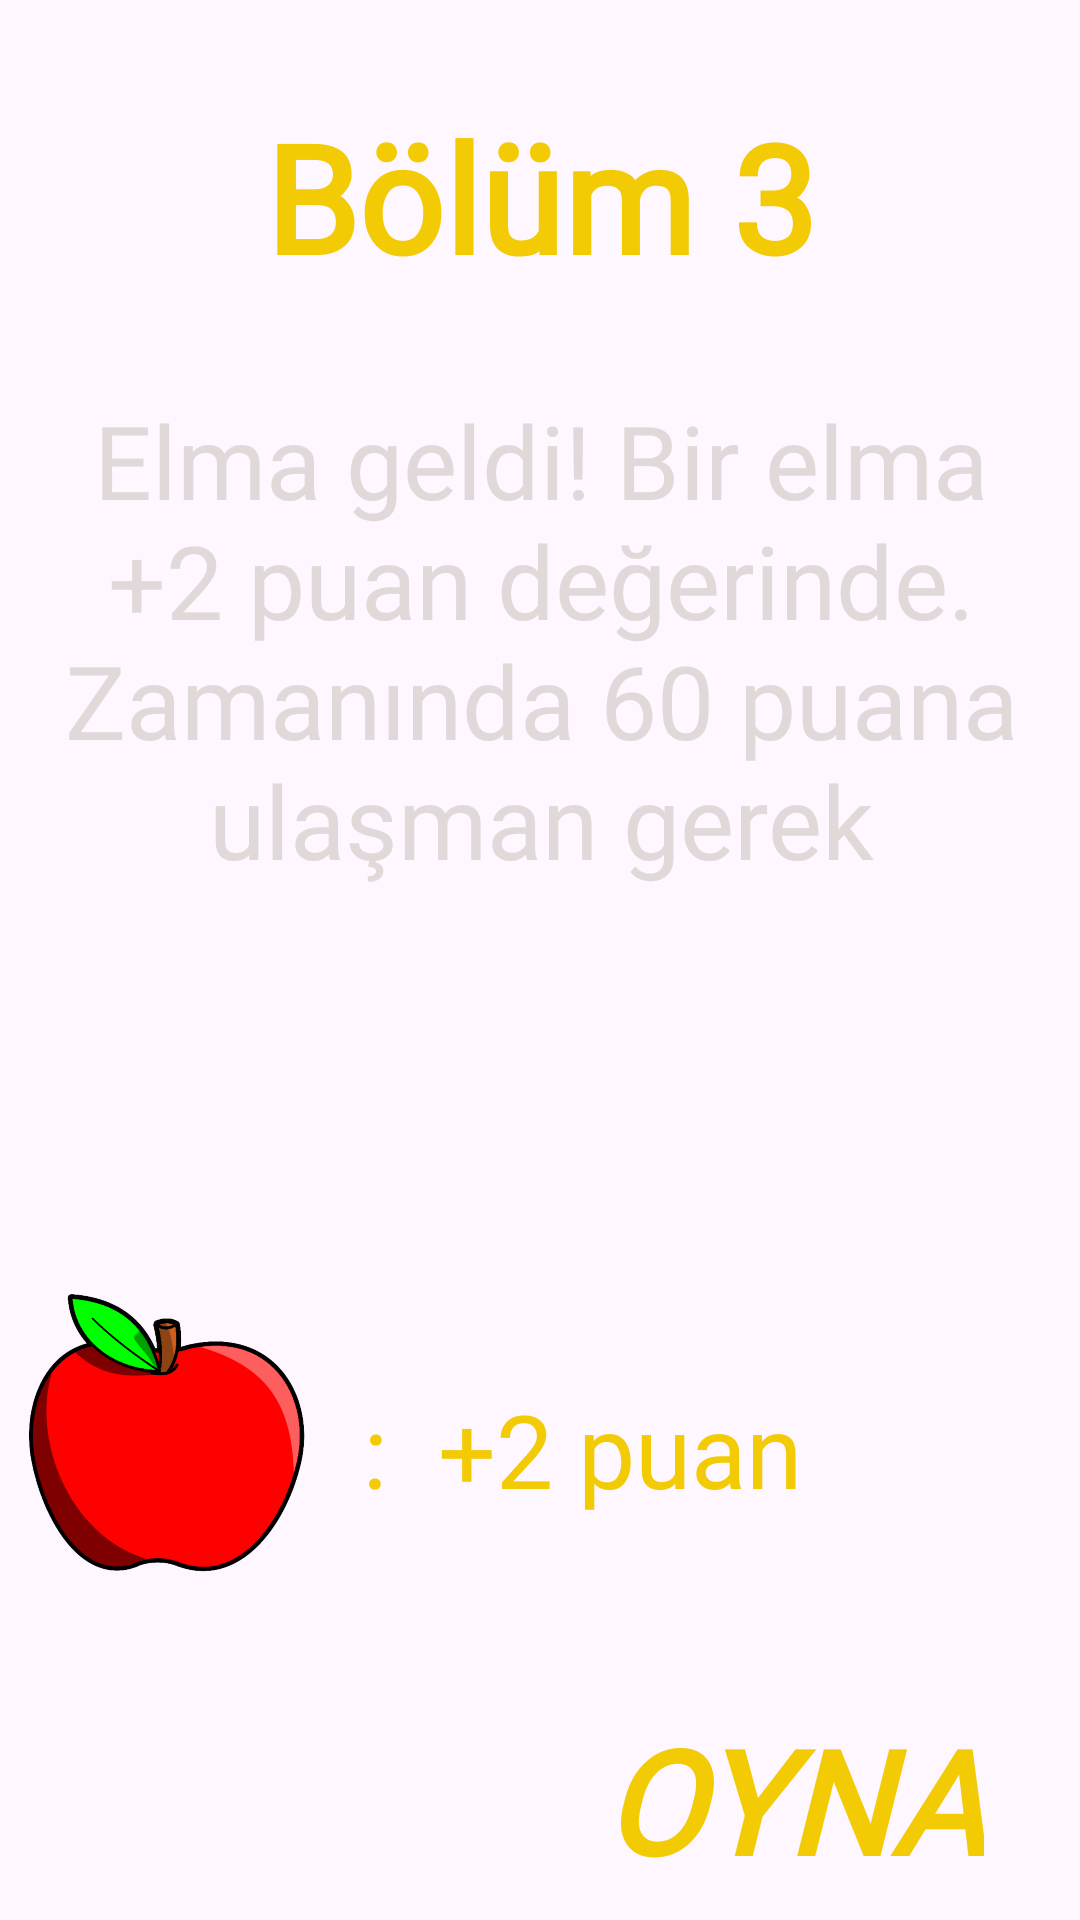

Icon click points for this 1080px x 1920px phone screenshot, format point (x, y):
apple: point (167, 1433)
